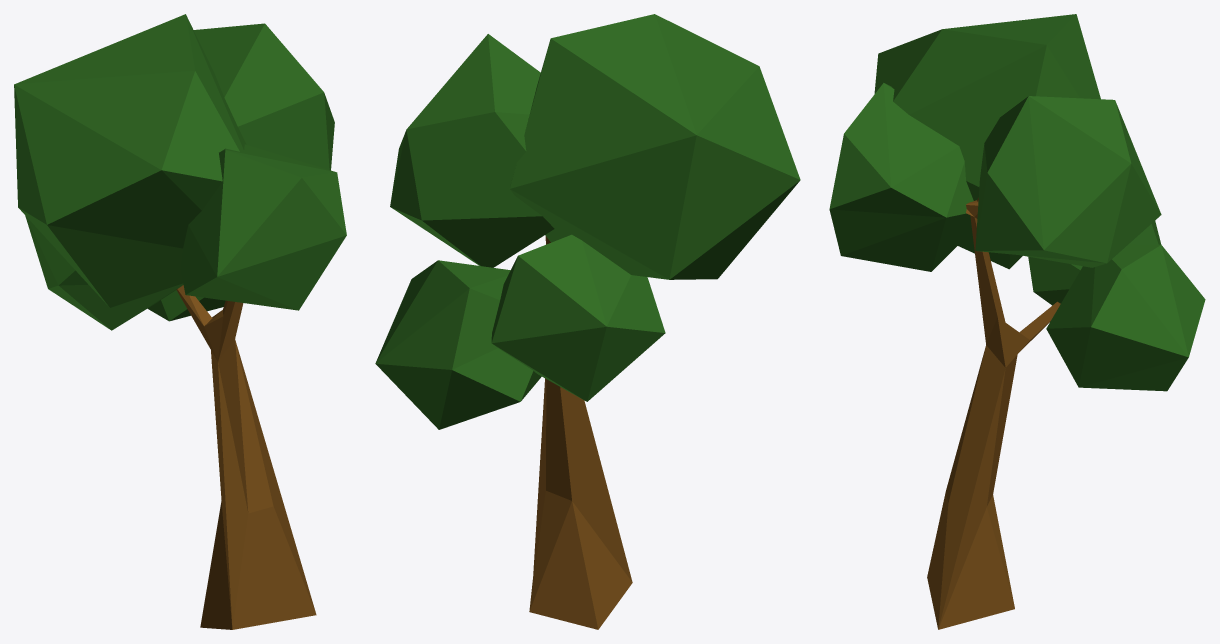
The model's file is tree1.fbx.
The picture shows the model from 3 angles, left to right: view 1: azimuth 30°, elevation 25°; view 2: azimuth 150°, elevation 25°; view 3: azimuth 270°, elevation 25°; orthographic projection. The views are drawn at different scales.
Visible parts, largest first — view 1: leaves, stem; view 2: leaves, stem; view 3: leaves, stem.
Boxes of the visible parts, x1,y1,x2,y2 form: leaves: (14,14,346,330); stem: (176,285,316,629); leaves: (375,14,800,429); stem: (529,236,632,629); leaves: (829,14,1205,391); stem: (927,197,1060,629).
Size of the model in its own units: 930 by 1548 by 941.
